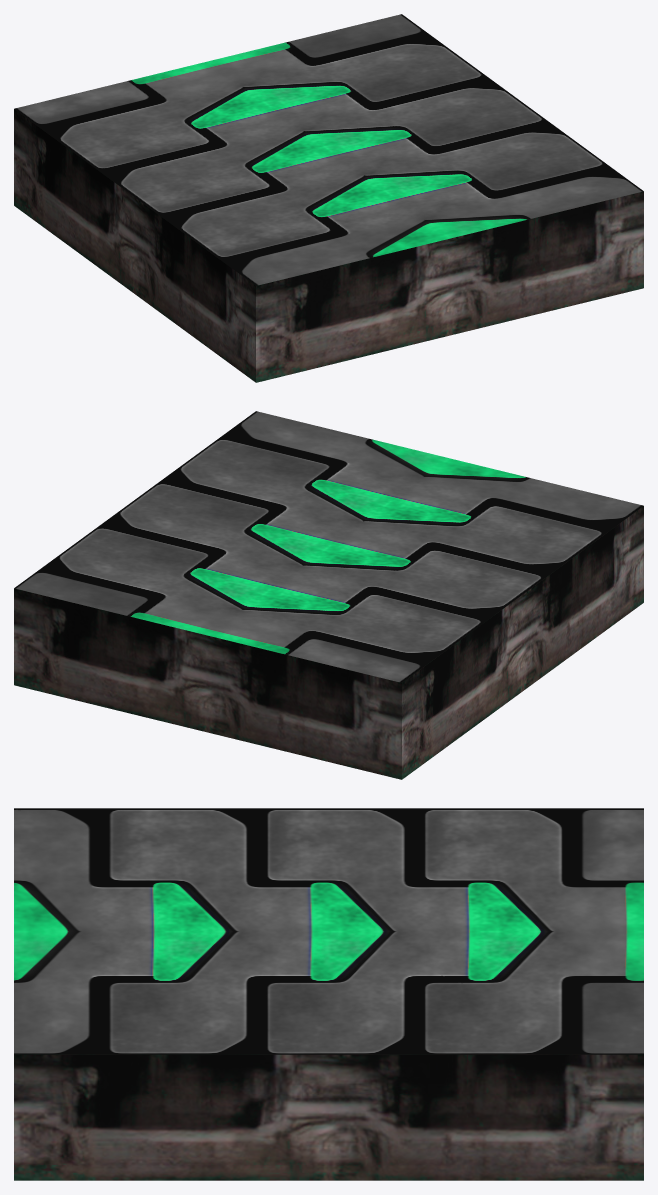
Rendered from belt-I.glb.
3 views of the same model, one above another, from view 1: azimuth 30°, elevation 25°; view 2: azimuth 150°, elevation 25°; view 3: azimuth 270°, elevation 25° (orthographic). The views are drawn at different scales.
Parts seen in each view (by area): view 1: Cube; view 2: Cube; view 3: Cube.
Boxes of the visible parts, x1,y1,x2,y2 form: Cube: (14, 14, 643, 382); Cube: (14, 411, 643, 779); Cube: (14, 808, 643, 1180).
Size of the model in its own units: 1.85 by 0.4418 by 2.
Materials: 2 (2 with a texture image).
